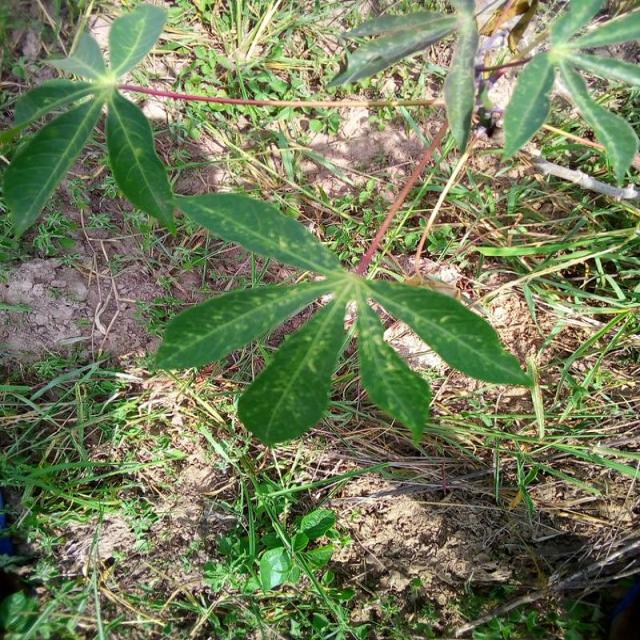cassava leaf: (363, 275, 534, 388), (235, 293, 348, 446), (150, 278, 332, 372), (354, 291, 432, 443), (104, 86, 176, 235)
